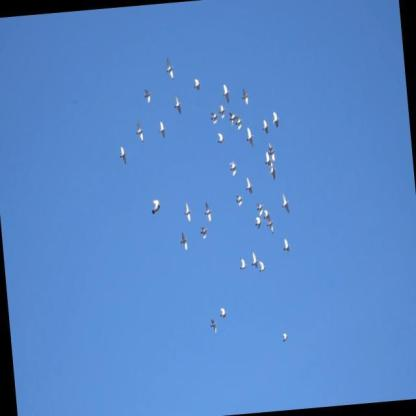bird: (280, 191, 291, 217), (203, 200, 214, 224), (164, 55, 174, 81), (149, 197, 162, 217), (135, 119, 145, 143), (220, 84, 231, 105), (172, 94, 183, 115), (183, 201, 193, 224), (178, 231, 189, 251), (268, 161, 278, 182), (245, 175, 255, 196), (250, 249, 260, 270), (227, 160, 238, 179), (265, 213, 276, 232), (268, 140, 276, 164), (246, 126, 254, 149), (119, 145, 128, 164), (240, 87, 250, 104), (157, 121, 167, 138), (254, 215, 264, 232), (198, 224, 209, 239), (143, 87, 152, 105), (209, 110, 219, 126), (271, 112, 281, 128), (210, 317, 219, 334), (235, 192, 245, 207), (193, 77, 202, 93), (261, 119, 270, 135), (263, 150, 271, 168), (238, 255, 247, 271), (258, 258, 267, 274), (218, 306, 228, 320), (217, 104, 226, 119), (256, 202, 265, 217), (283, 236, 291, 252), (227, 111, 236, 125), (215, 130, 224, 144), (235, 116, 243, 130), (281, 330, 289, 344)
